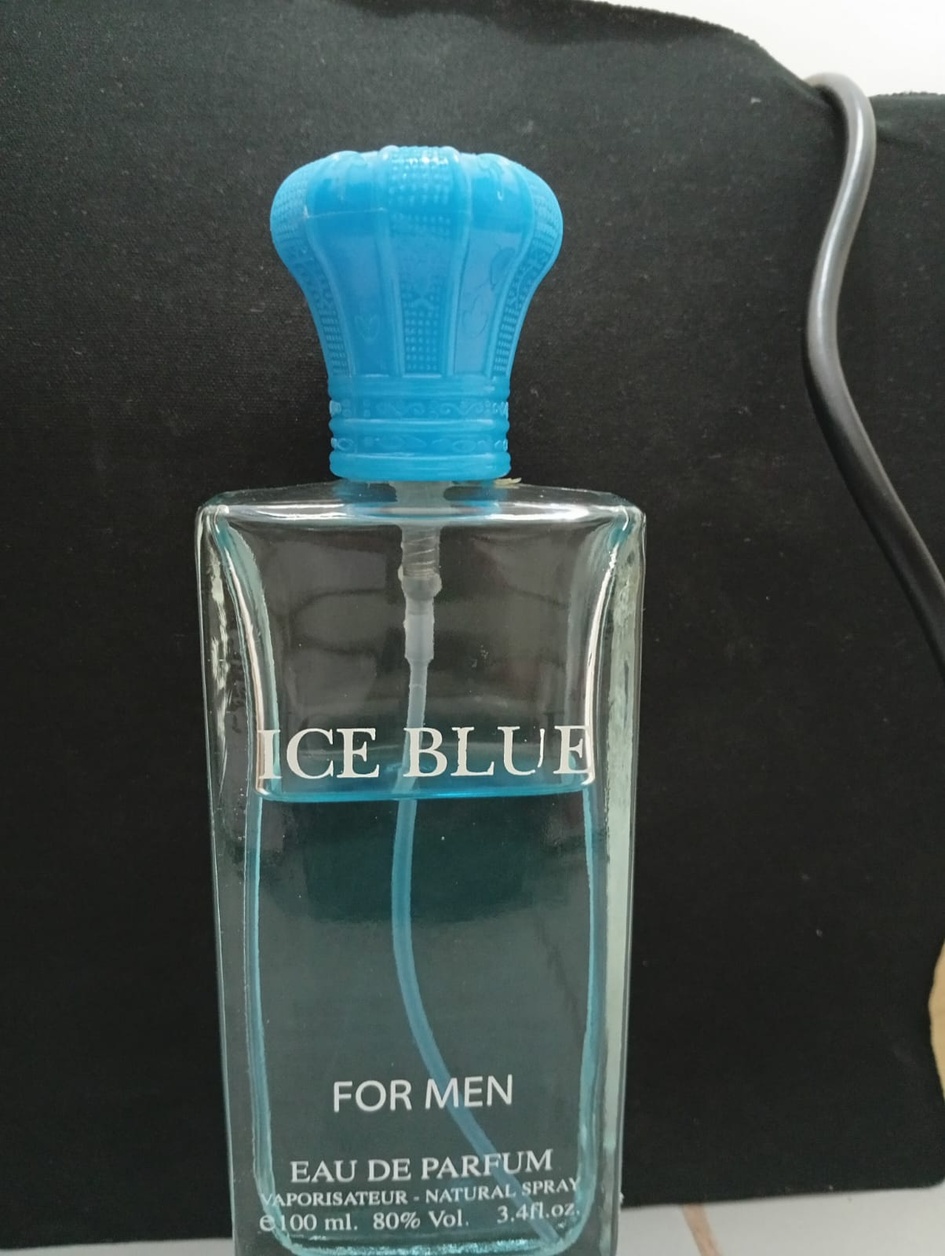Parfum: (75, 103, 677, 1256)
